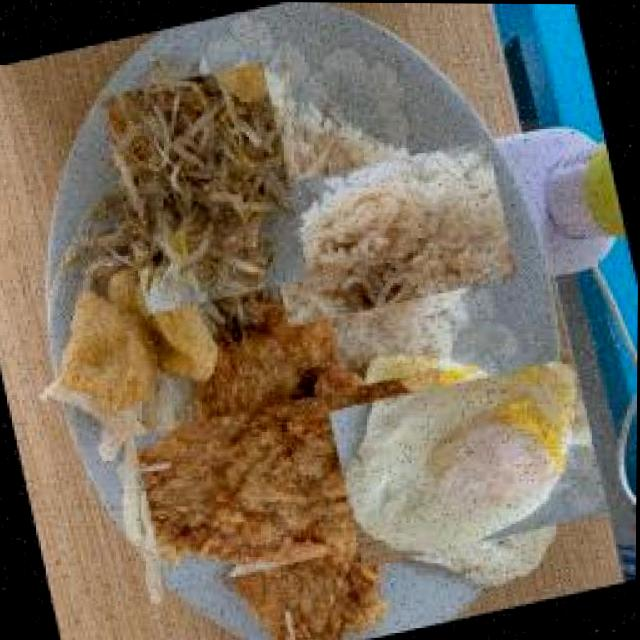chicken_nuggets: (38, 253, 227, 424)
fried_chicken: (161, 336, 446, 621)
fried_eggs: (347, 337, 596, 586)
mung_bean_sprouts: (98, 61, 313, 317)
rice: (276, 120, 502, 346)
